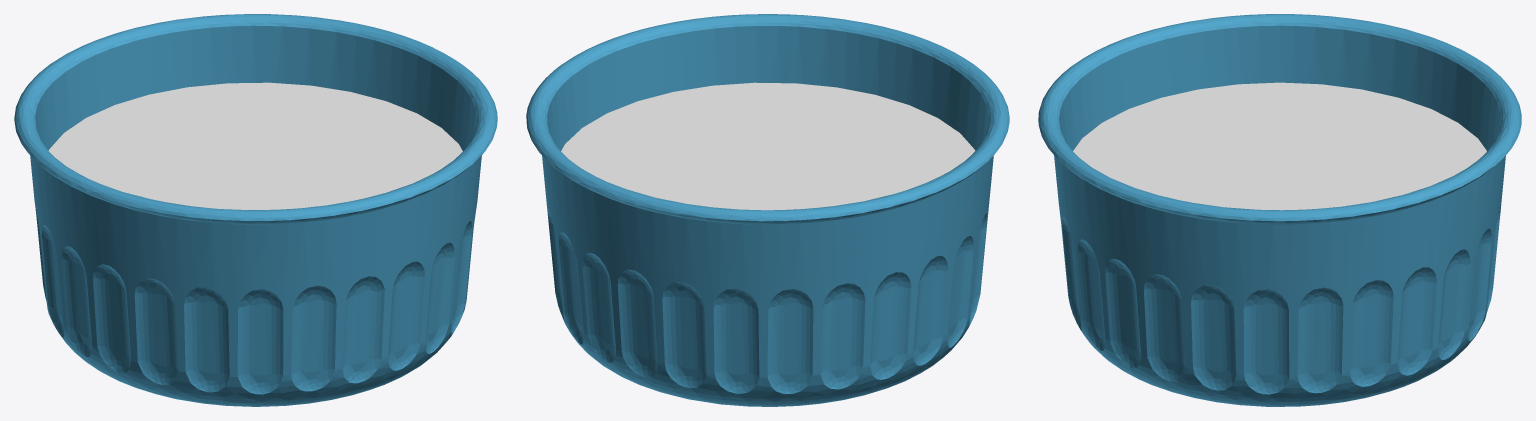
Rendered from Bowl.fbx.
3 views of the same model, side by side, from view 1: azimuth 30°, elevation 25°; view 2: azimuth 150°, elevation 25°; view 3: azimuth 270°, elevation 25° (orthographic).
Parts seen in each view (by area): view 1: 入れ物, 水面2; view 2: 入れ物, 水面2; view 3: 入れ物, 水面2.
Boxes of the visible parts, x1,y1,x2,y2 form: 入れ物: (14, 14, 497, 406); 水面2: (48, 82, 462, 209); 入れ物: (526, 14, 1009, 406); 水面2: (561, 82, 975, 210); 入れ物: (1038, 14, 1521, 406); 水面2: (1073, 82, 1486, 210).
Size of the model in its own units: 0.305 by 0.1541 by 0.3049.
